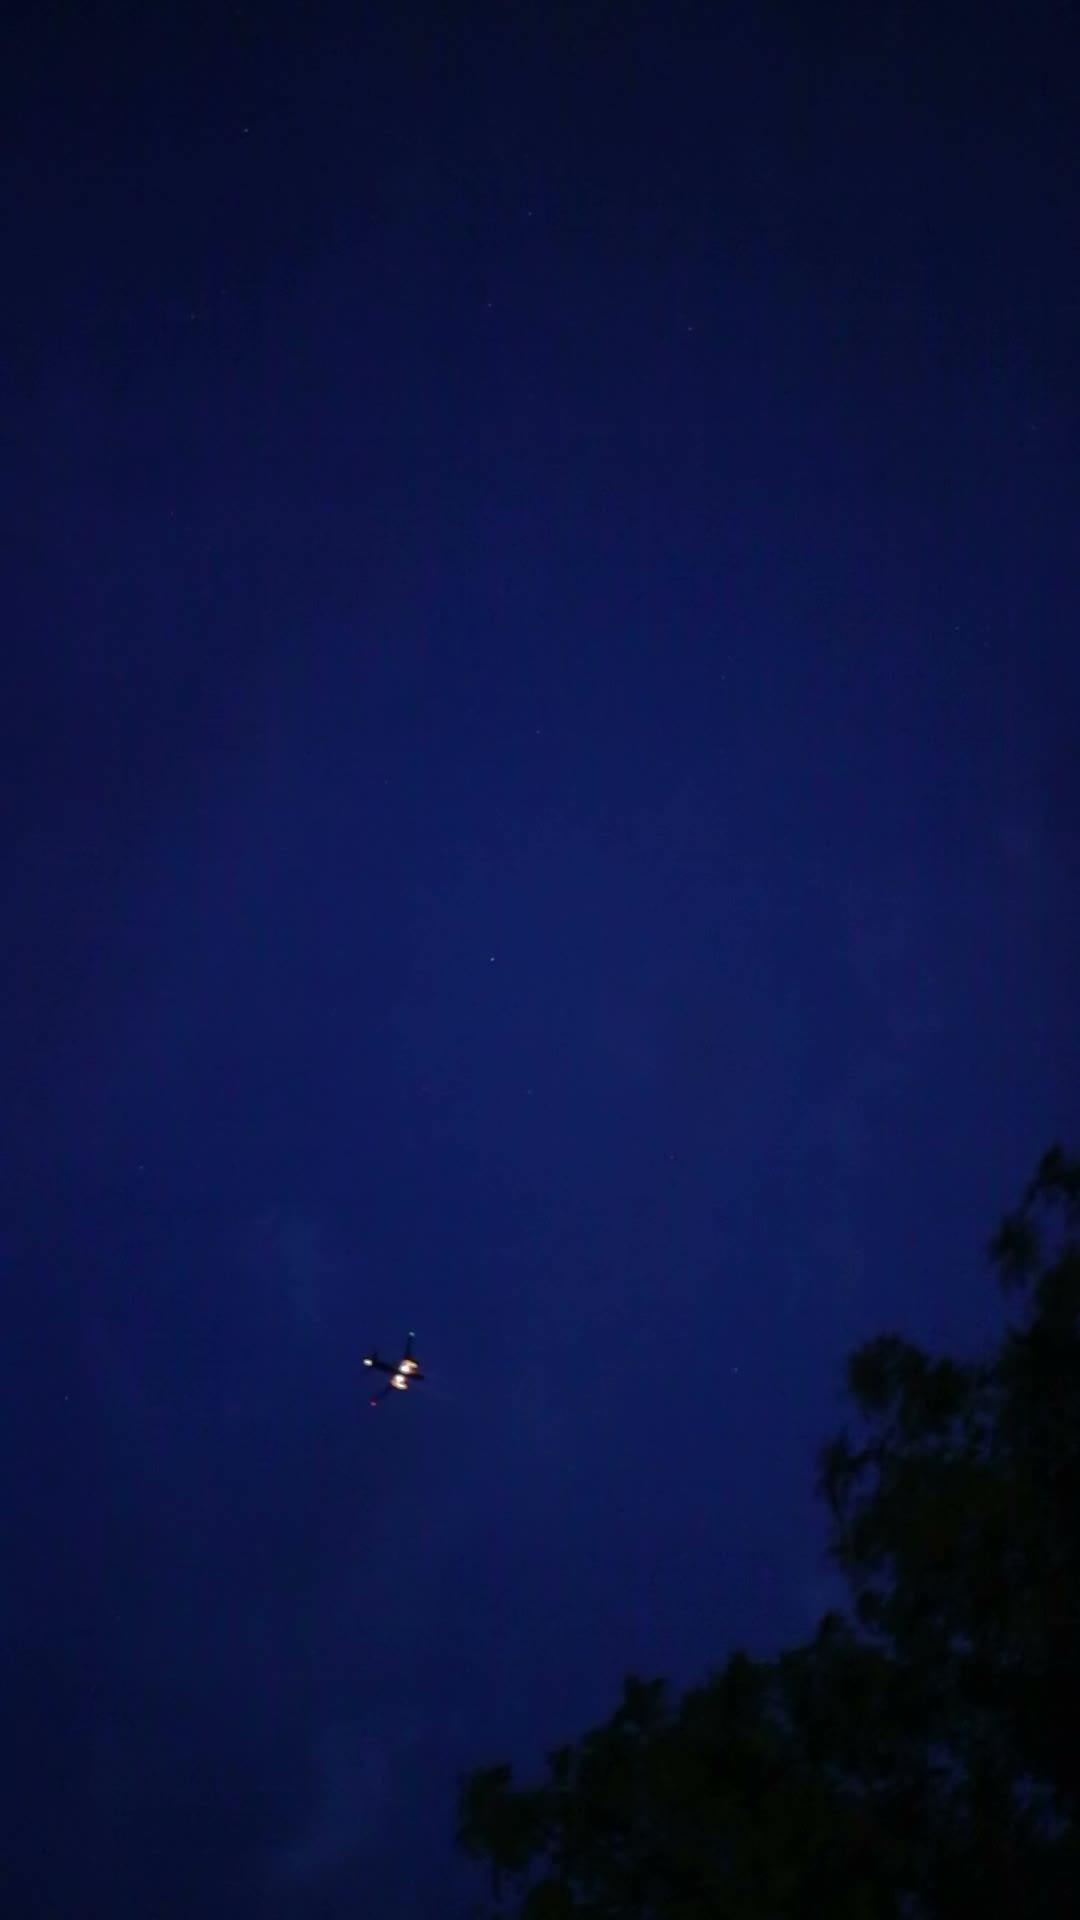Plane: (348, 1325, 440, 1418)
